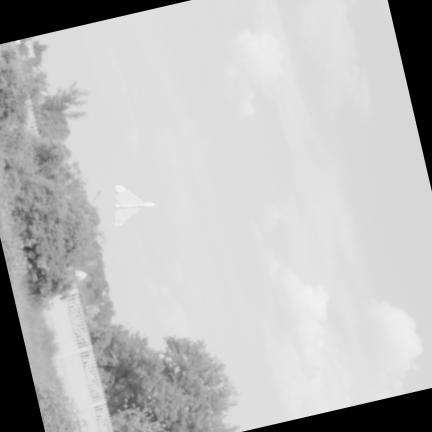Shahed: (114, 186, 153, 226)
